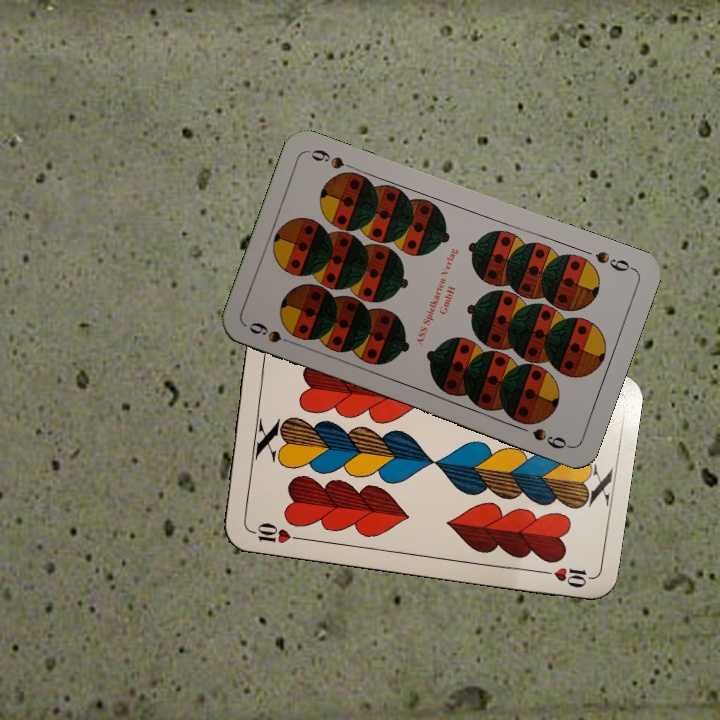H10: (245, 518, 304, 546)
S9: (245, 318, 301, 349), (591, 247, 637, 274)
